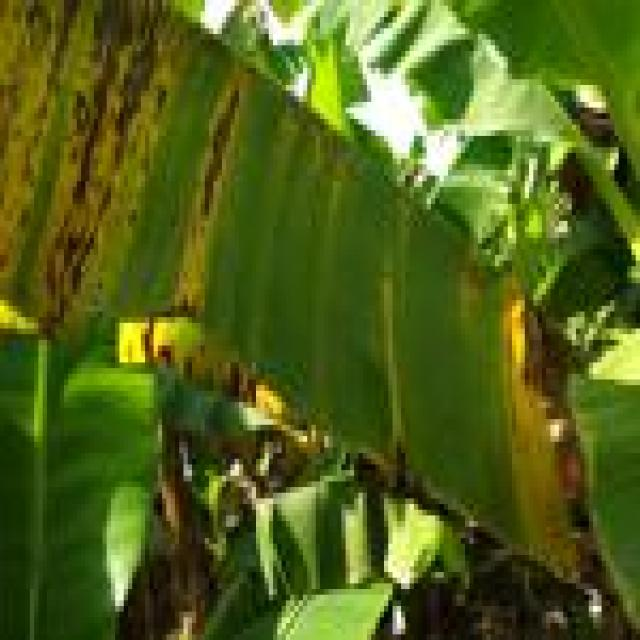Early_rust: (0, 0, 257, 374), (457, 208, 631, 586)
